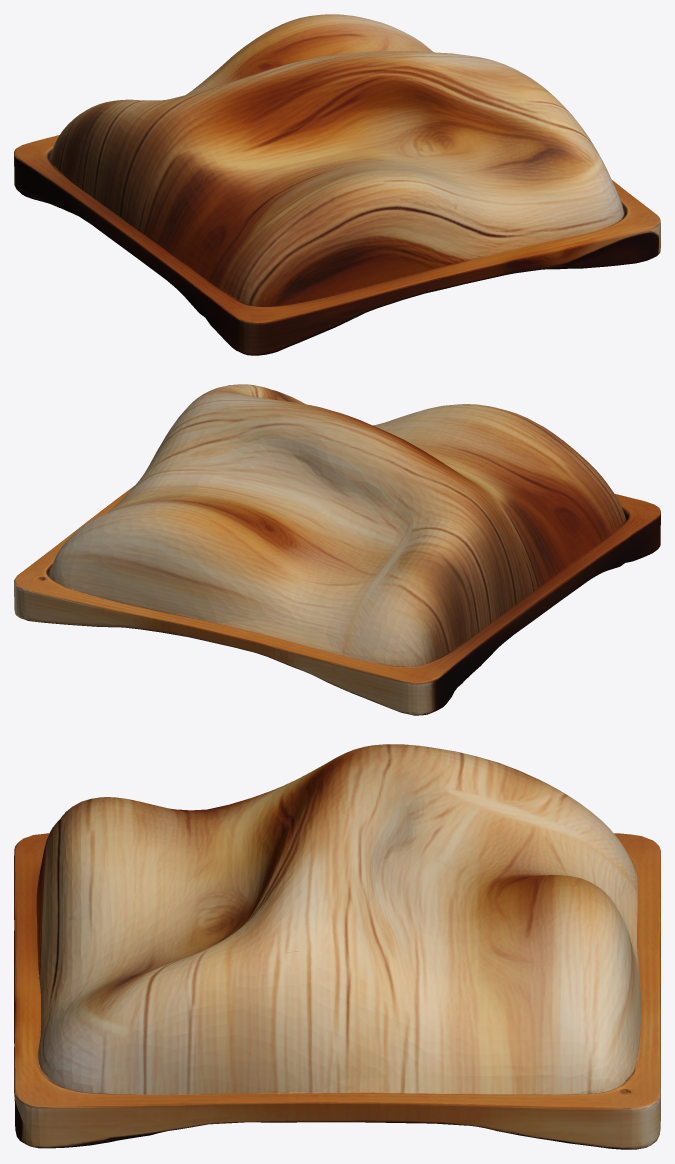
Rendered from wooden-desk-organizer-dune.jpeg.glb.
3 views of the same model, one above another, from view 1: azimuth 30°, elevation 25°; view 2: azimuth 150°, elevation 25°; view 3: azimuth 270°, elevation 25° (orthographic). The views are drawn at different scales.
Visible parts, largest first — view 1: world; view 2: world; view 3: world.
Boxes of the visible parts, box(x1,y1,x2,y2) form: world: box(14, 14, 660, 355); world: box(14, 384, 660, 715); world: box(14, 744, 660, 1149).
Bounding box in the file's own units: 0.9999 × 0.3689 × 1.
Materials: 1 (1 with a texture image).
